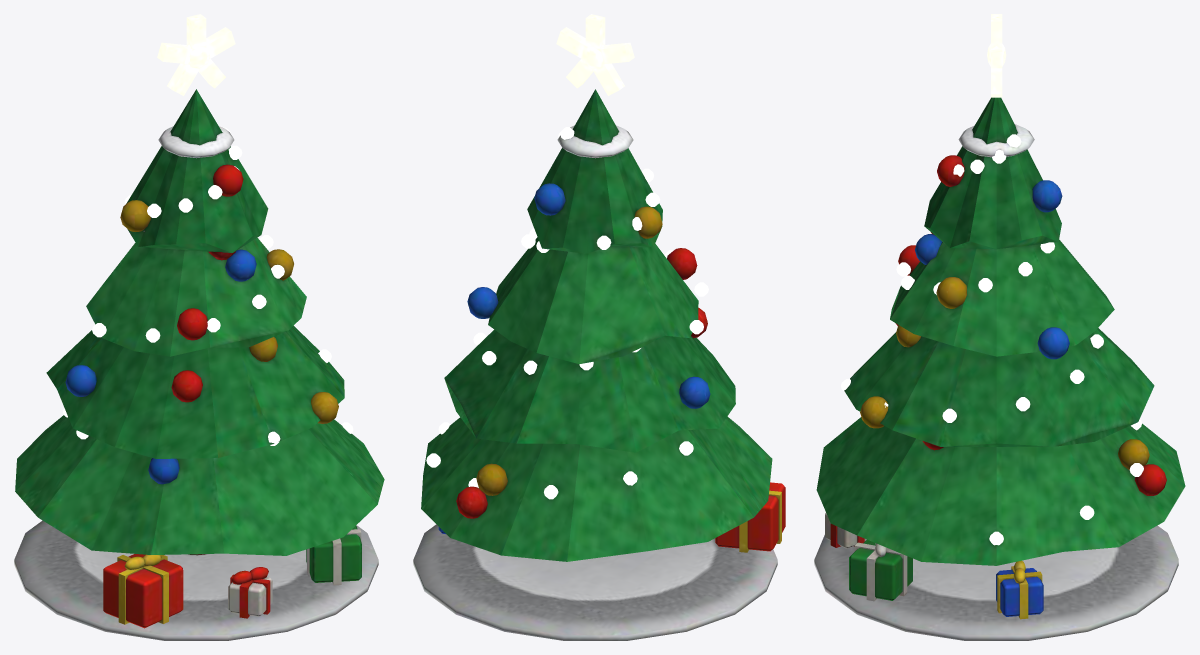
File: festive_pine.glb
3 views of the same model, side by side, from view 1: azimuth 30°, elevation 25°; view 2: azimuth 150°, elevation 25°; view 3: azimuth 270°, elevation 25° (orthographic).
Parts seen in each view (by area): view 1: festive_pine; view 2: festive_pine; view 3: festive_pine.
Boxes of the visible parts, left/top/right/bottom form: festive_pine: left=14, top=14, right=384, bottom=640; festive_pine: left=413, top=14, right=785, bottom=640; festive_pine: left=814, top=14, right=1185, bottom=640.
Bounding box in the file's own units: 0.8142 × 1.34 × 0.8024.
Materials: 1 (1 with a texture image).
